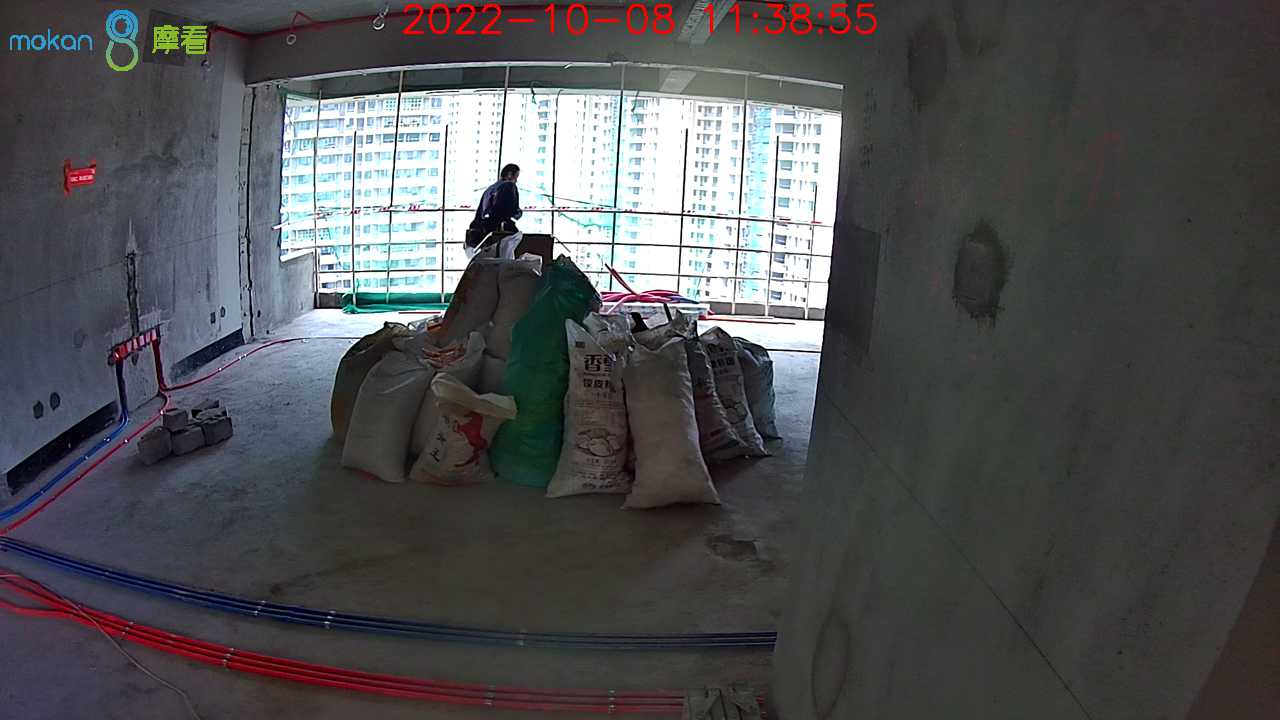people: (466, 163, 521, 247)
window: (282, 90, 838, 309)
